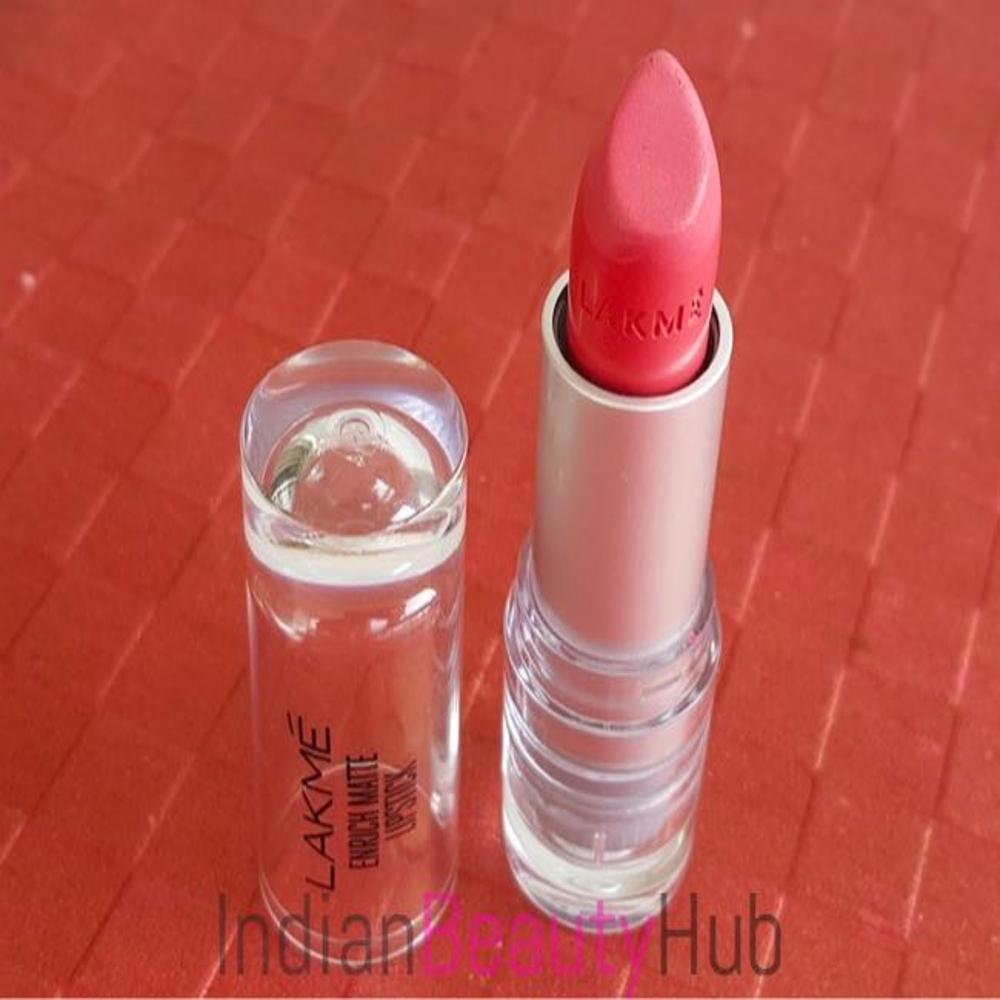lipstick: (511, 0, 745, 949)
